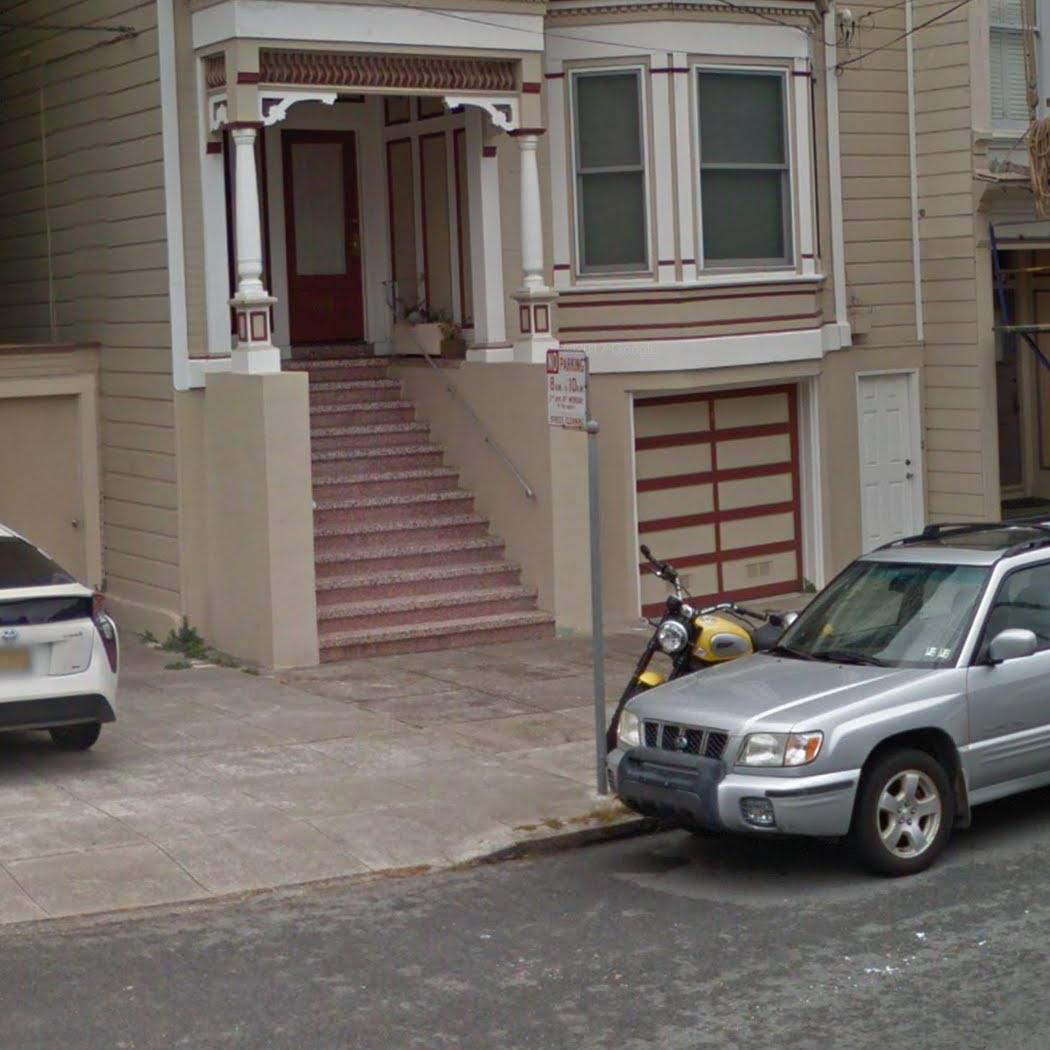No Parking: (544, 348, 590, 433)
